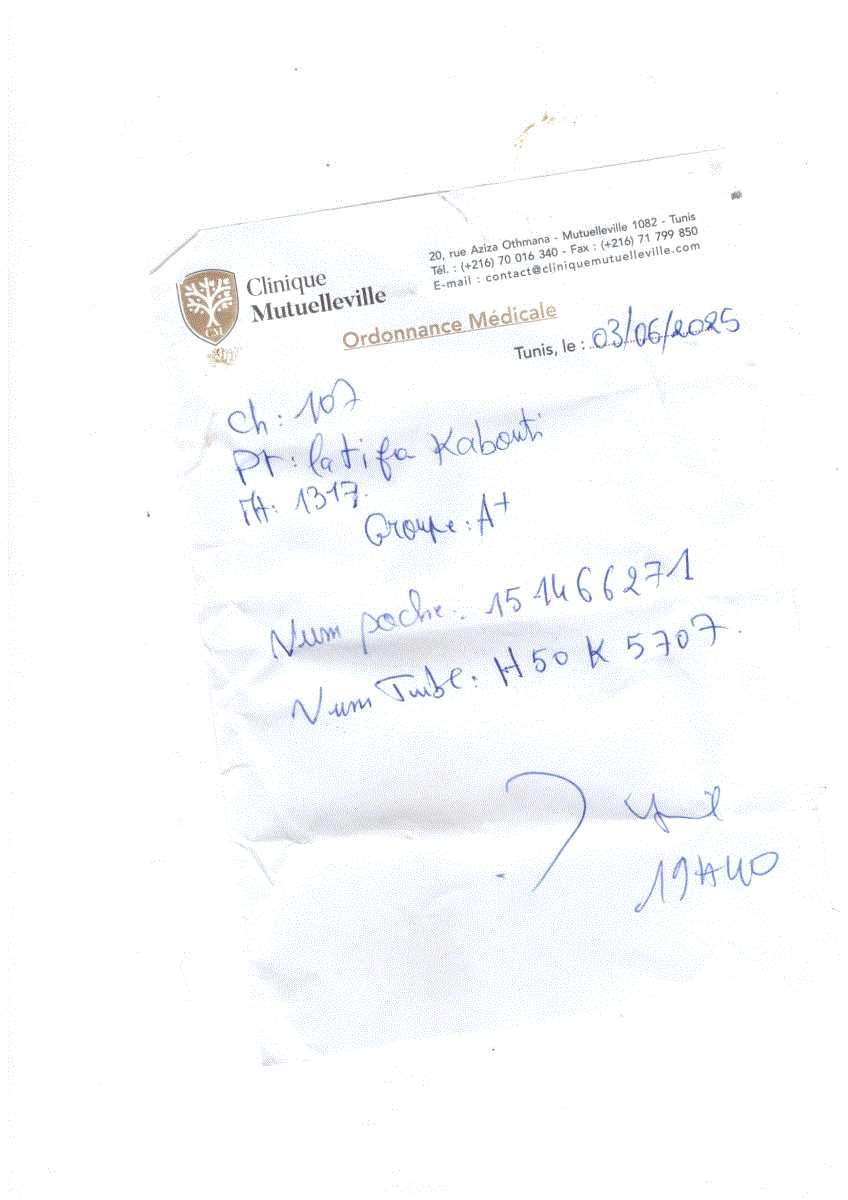zone_analyses: (204, 377, 821, 899)
zone_date: (577, 322, 781, 360)
zone_prescripteur: (408, 248, 729, 303)
